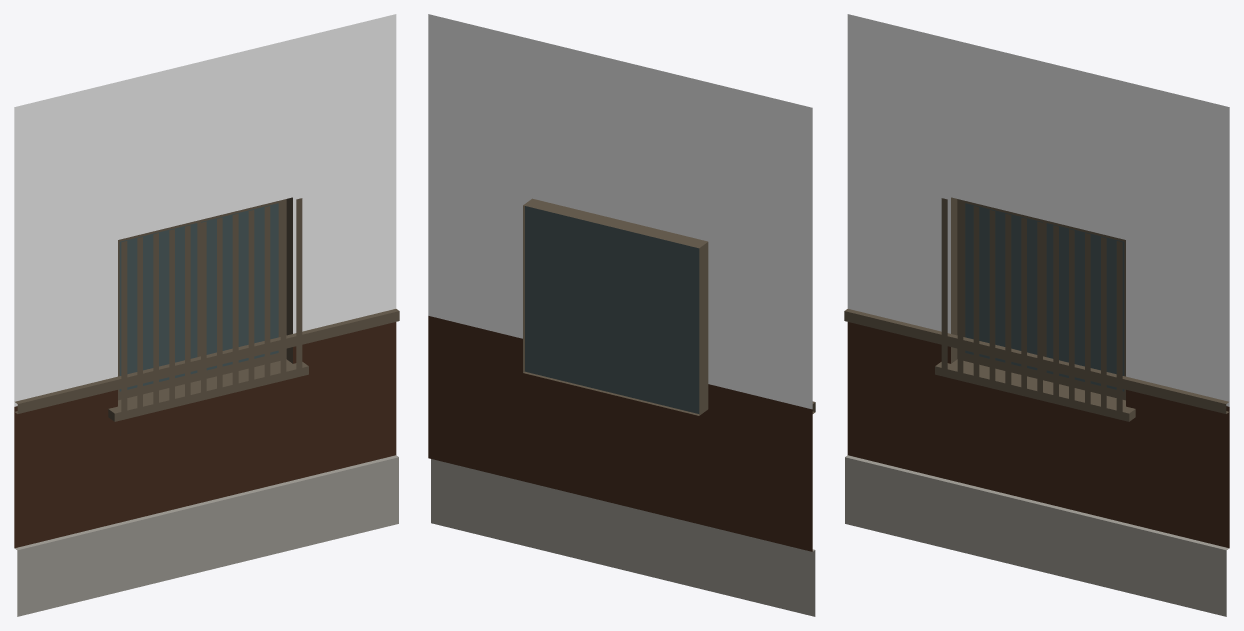
The picture shows the model from 3 angles, left to right: view 1: azimuth 30°, elevation 25°; view 2: azimuth 150°, elevation 25°; view 3: azimuth 330°, elevation 25°; orthographic projection.
Visible parts, largest first — view 1: a2015/800/base-w1; view 2: a2015/800/base-w1; view 3: a2015/800/base-w1.
Boxes of the visible parts, box(x1,y1,x2,y2) form: a2015/800/base-w1: box(14, 14, 399, 616); a2015/800/base-w1: box(428, 14, 815, 616); a2015/800/base-w1: box(844, 14, 1229, 616).
Bounding box in the file's own units: 2.4 × 3.05 × 0.17.
